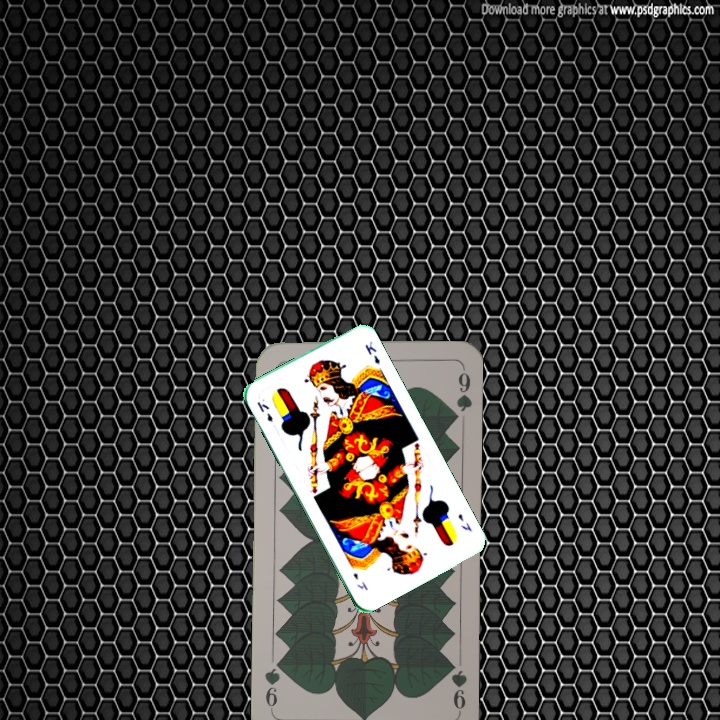EK: (253, 398, 276, 424), (454, 510, 474, 534)
G9: (444, 656, 470, 715)
